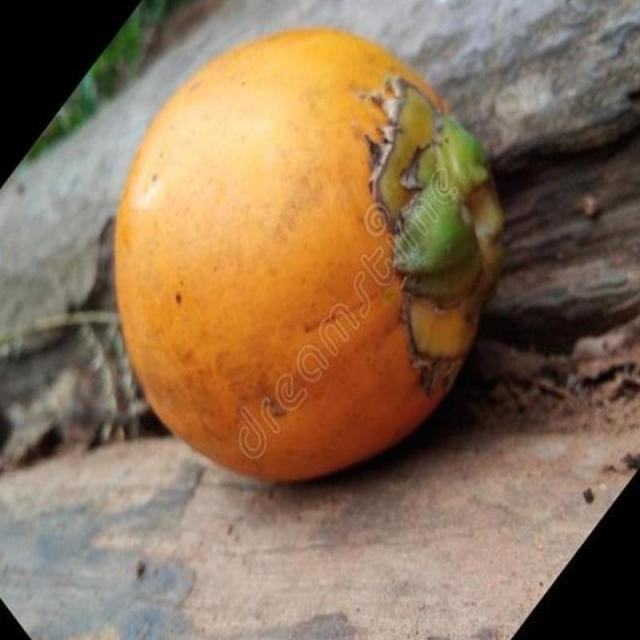good: (112, 27, 504, 486)
